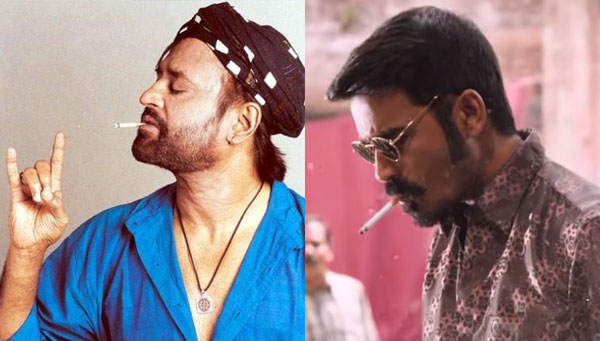cigarette: (355, 191, 405, 235), (110, 119, 146, 128)
